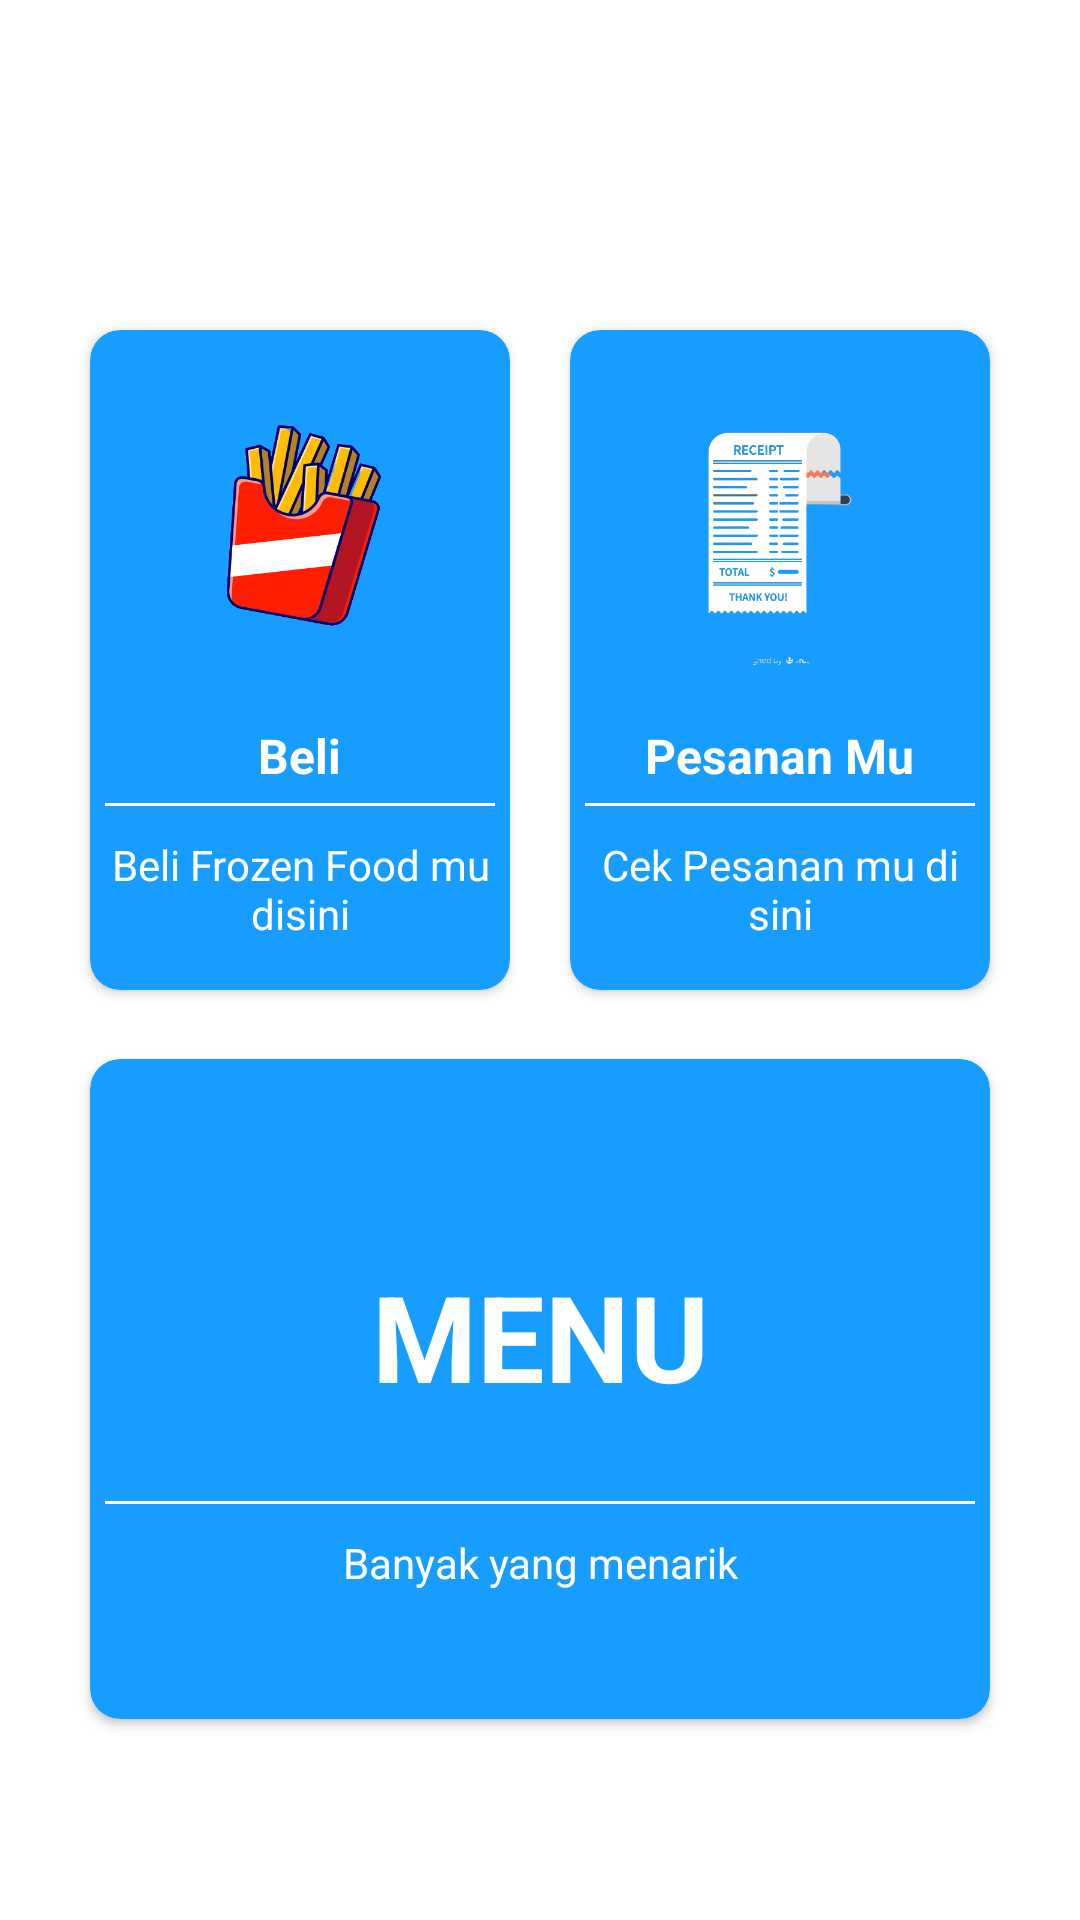

Icon click points for this 1080px x 1920px phone screenshot, format (x,y):
billvector: (780,548)
